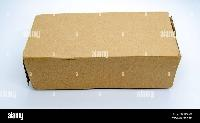undamaged: (18, 7, 182, 95)
